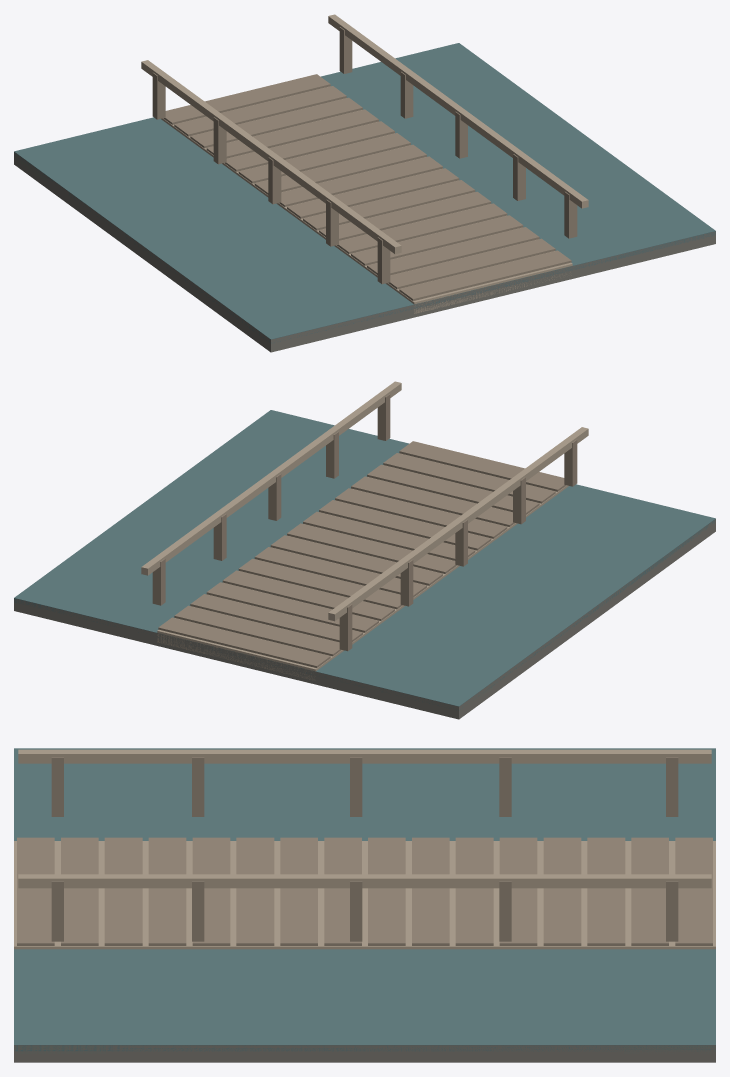
File: bridge_timber_ns.glb
The picture shows the model from 3 angles, top to bottom: view 1: azimuth 30°, elevation 25°; view 2: azimuth 150°, elevation 25°; view 3: azimuth 270°, elevation 25°; orthographic projection. The views are drawn at different scales.
Visible parts, largest first — view 1: road_material_01, road_material_04, road_material_03, road_material_00; view 2: road_material_01, road_material_04, road_material_03, road_material_00; view 3: road_material_01, road_material_04, road_material_03, road_material_00, road_material_02.
Boxes of the visible parts, x1=… form: road_material_01: x1=14, y1=43, x2=715, y2=343; road_material_04: x1=152, y1=27, x2=577, y2=300; road_material_03: x1=141, y1=14, x2=588, y2=313; road_material_00: x1=14, y1=152, x2=715, y2=352; road_material_01: x1=14, y1=410, x2=715, y2=710; road_material_04: x1=152, y1=394, x2=577, y2=667; road_material_03: x1=141, y1=381, x2=588, y2=680; road_material_00: x1=14, y1=519, x2=715, y2=719; road_material_01: x1=14, y1=748, x2=715, y2=1051; road_material_04: x1=17, y1=757, x2=712, y2=945; road_material_03: x1=14, y1=749, x2=715, y2=949; road_material_00: x1=14, y1=1045, x2=715, y2=1062; road_material_02: x1=18, y1=1046, x2=711, y2=1053.
Bounding box in the file's own units: 8 × 1.26 × 8.
